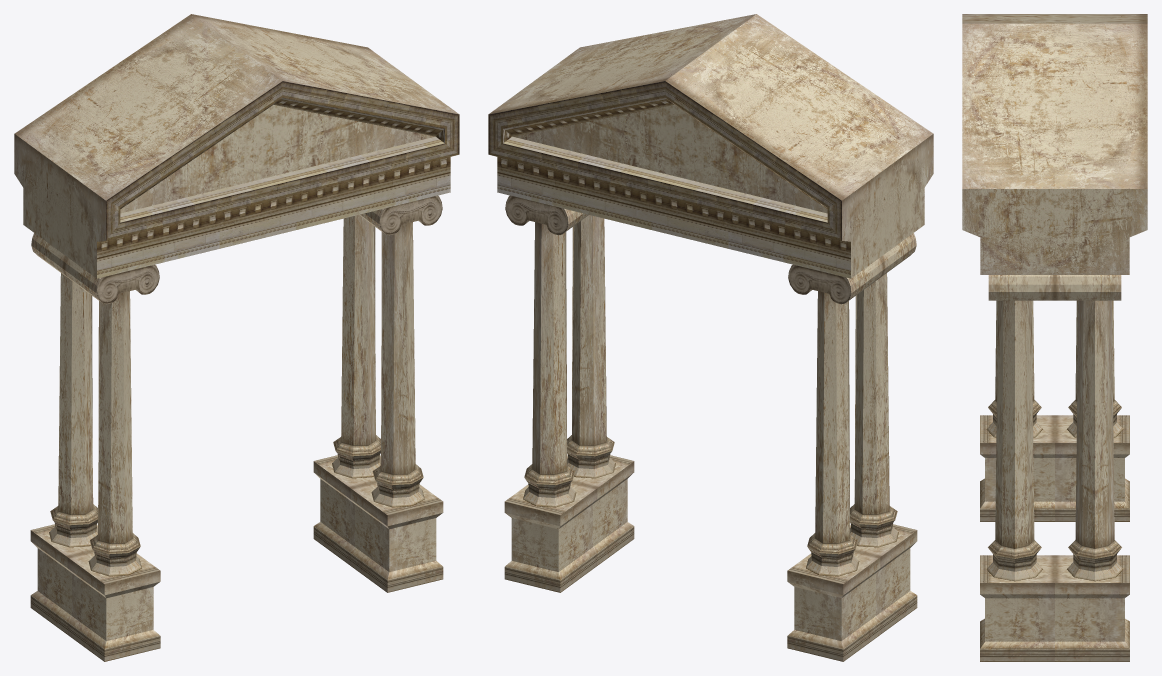
Rendered from svpergola5.dae.
3 renders of one model, left to right at view 1: azimuth 30°, elevation 25°; view 2: azimuth 150°, elevation 25°; view 3: azimuth 270°, elevation 25°, orthographic.
Parts seen in each view (by area): view 1: cube4_sep13-0; view 2: cube4_sep13-0; view 3: cube4_sep13-0.
Part boxes in pixels (bbox=[...]): cube4_sep13-0: bbox=[14, 14, 459, 661]; cube4_sep13-0: bbox=[488, 14, 933, 661]; cube4_sep13-0: bbox=[962, 14, 1147, 661].
Size of the model in its own units: 500 by 738 by 224.
